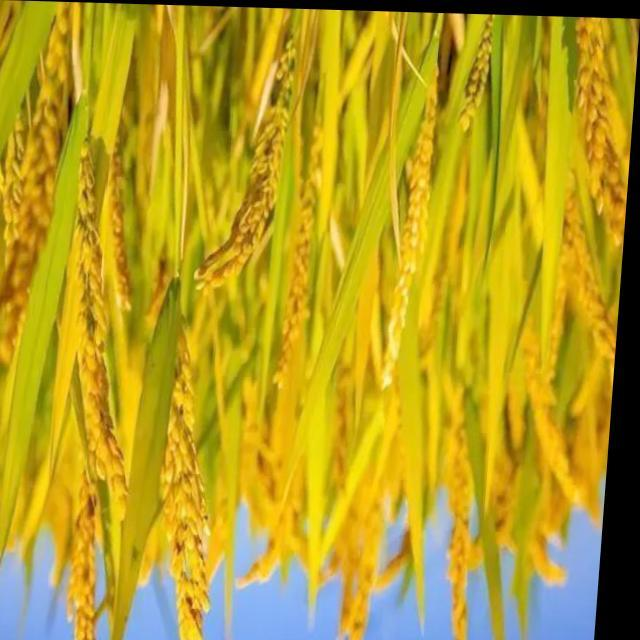Padi: (12, 14, 124, 636), (200, 34, 348, 402), (134, 352, 256, 628), (514, 18, 640, 228)
